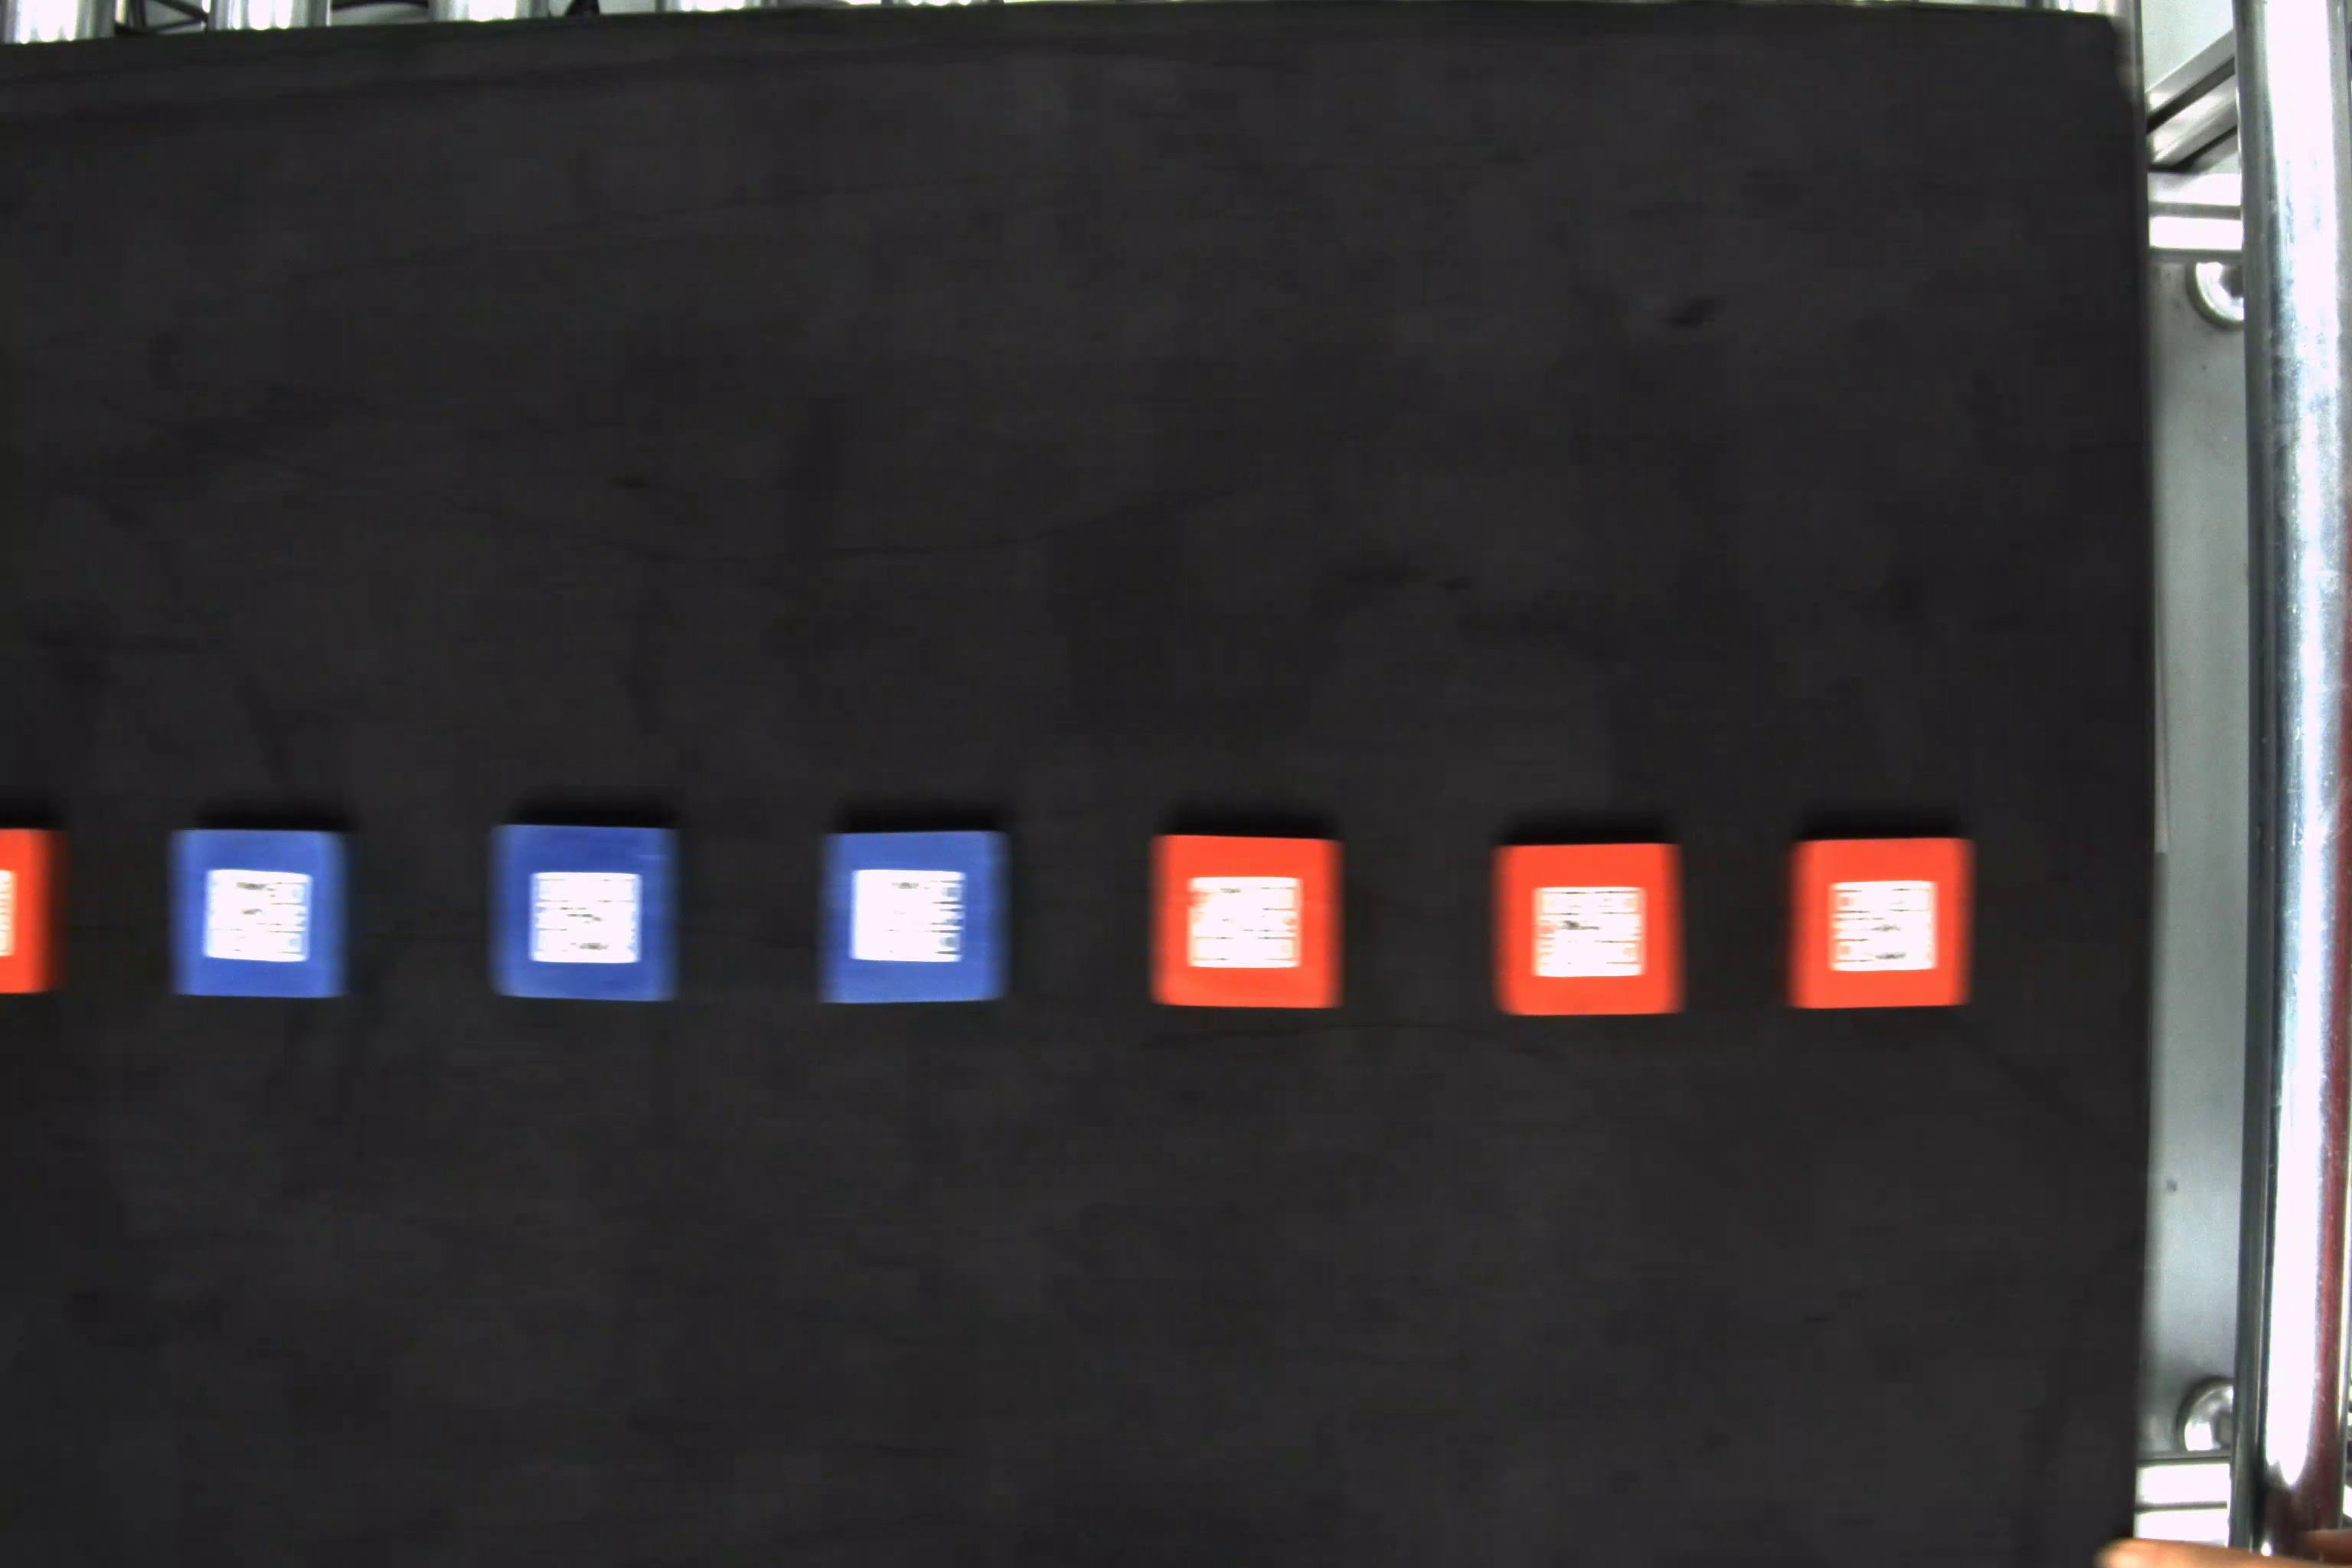wood: (1148, 833, 1351, 1017), (1487, 842, 1690, 1020), (485, 822, 679, 1003), (1787, 840, 1979, 1020), (164, 826, 355, 1003), (817, 835, 1013, 1003), (3, 822, 73, 1001)
